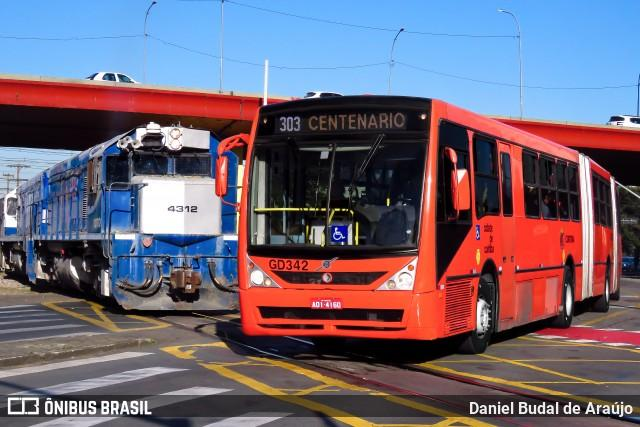CENTENARIO: (304, 109, 407, 134)
